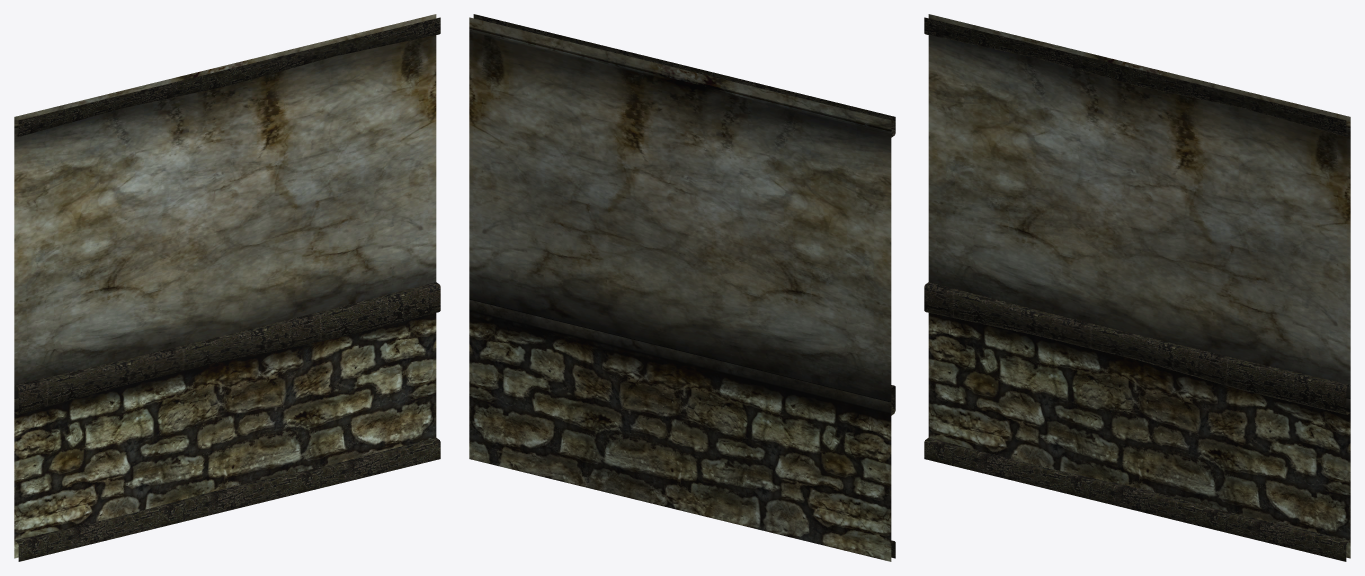
Rendered from cellar_wall_01.DAE.
The picture shows the model from 3 angles, left to right: view 1: azimuth 30°, elevation 25°; view 2: azimuth 150°, elevation 25°; view 3: azimuth 330°, elevation 25°; orthographic projection.
Visible parts, largest first — view 1: Box001, Box002; view 2: Box001, Box002; view 3: Box001, Box002.
Boxes of the visible parts, x1=… form: Box001: x1=14, y1=14, x2=436, y2=558; Box002: x1=14, y1=17, x2=440, y2=561; Box001: x1=469, y1=17, x2=891, y2=561; Box002: x1=473, y1=14, x2=895, y2=558; Box001: x1=928, y1=14, x2=1350, y2=558; Box002: x1=924, y1=17, x2=1350, y2=561.
Size of the model in its own units: 4 by 4 by 0.0821.
